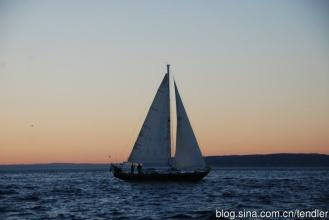fanchuan: (109, 61, 210, 181)
